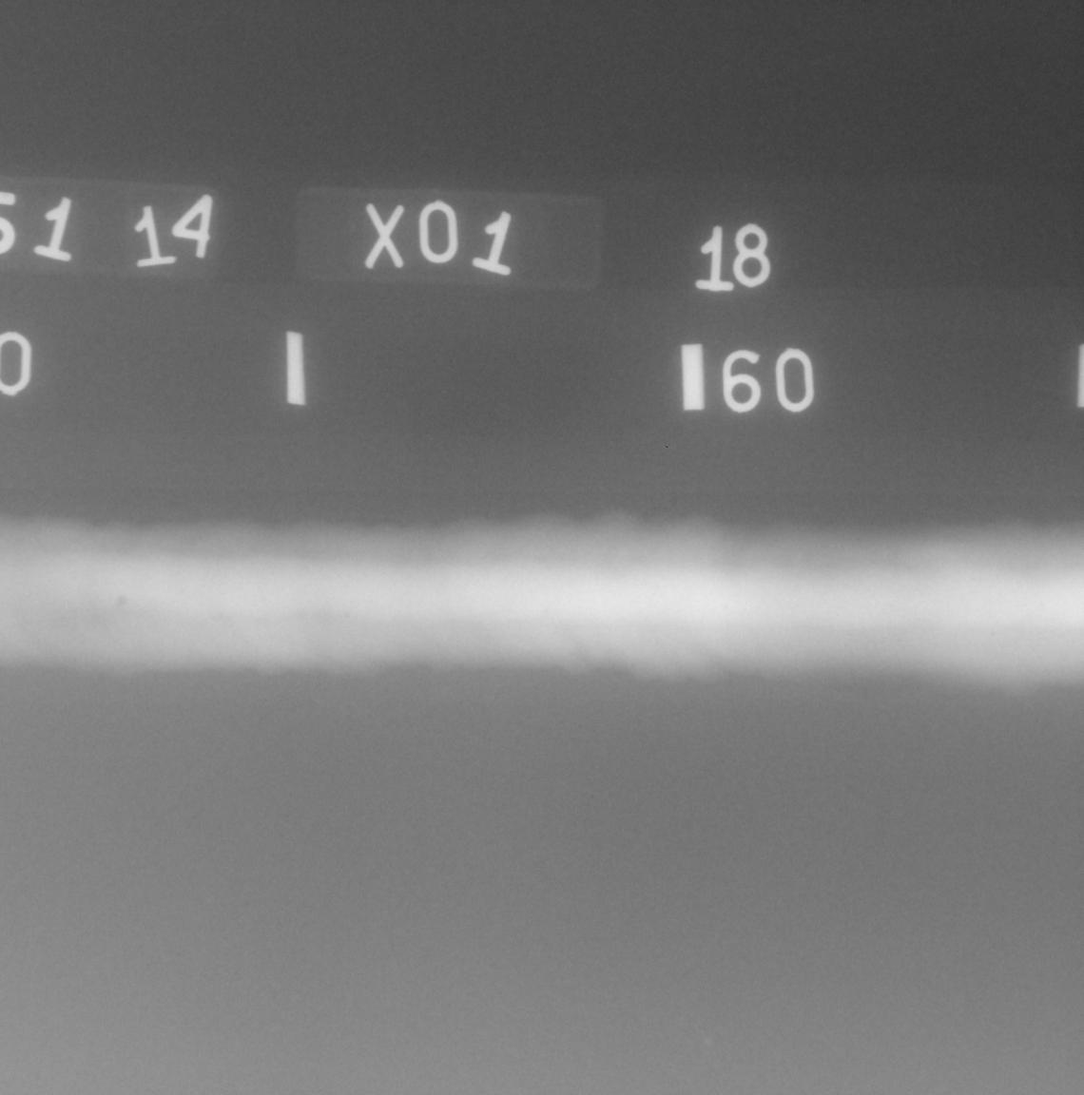Inclusion: (344, 611, 350, 617), (543, 610, 548, 614), (724, 604, 728, 608)
Pore/Porosity: (115, 596, 127, 607), (991, 632, 995, 636)
